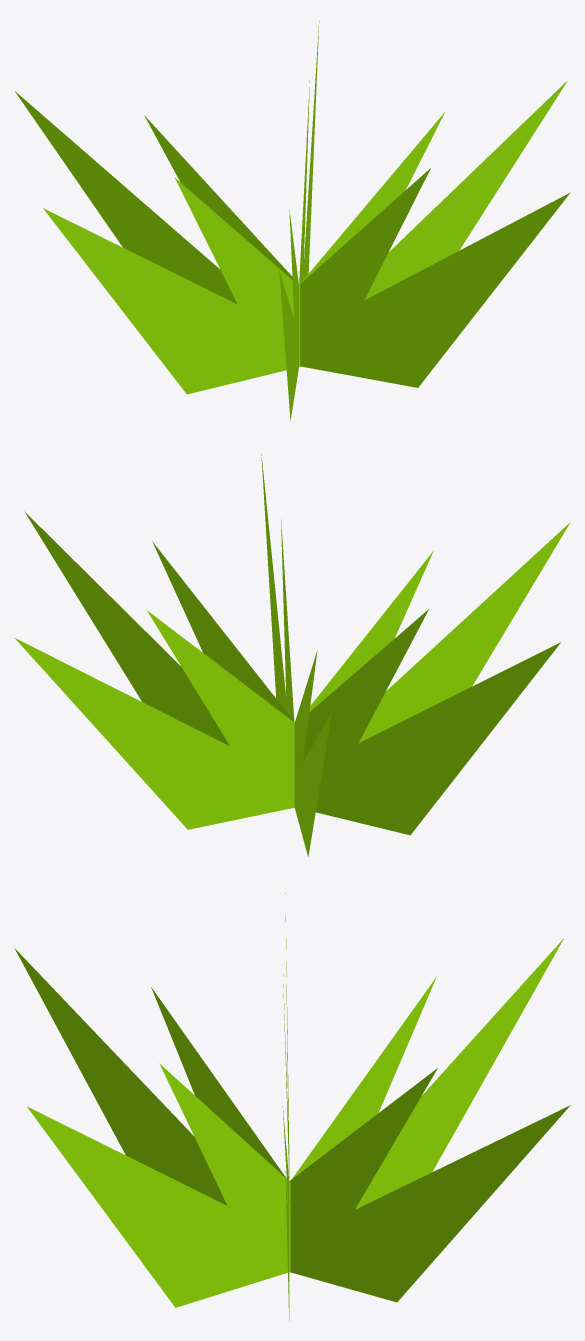
File: Grass.glb
3 views of the same model, one above another, from view 1: azimuth 30°, elevation 25°; view 2: azimuth 150°, elevation 25°; view 3: azimuth 270°, elevation 25° (orthographic). The views are drawn at different scales.
Visible parts, largest first — view 1: Plane; view 2: Plane; view 3: Plane.
Part boxes in pixels (left/top/right/bottom): Plane: left=15, top=20, right=570, bottom=421; Plane: left=14, top=454, right=570, bottom=856; Plane: left=14, top=893, right=570, bottom=1320.
Bounding box in the file's own units: 4.92 × 2.01 × 4.08.
